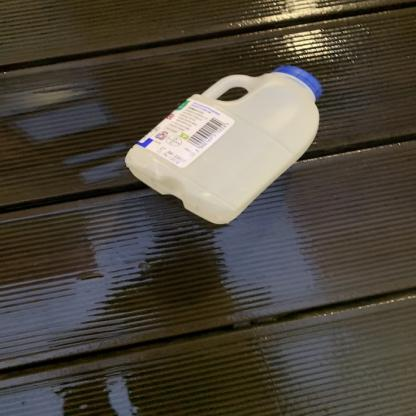trash: (121, 64, 326, 228)
